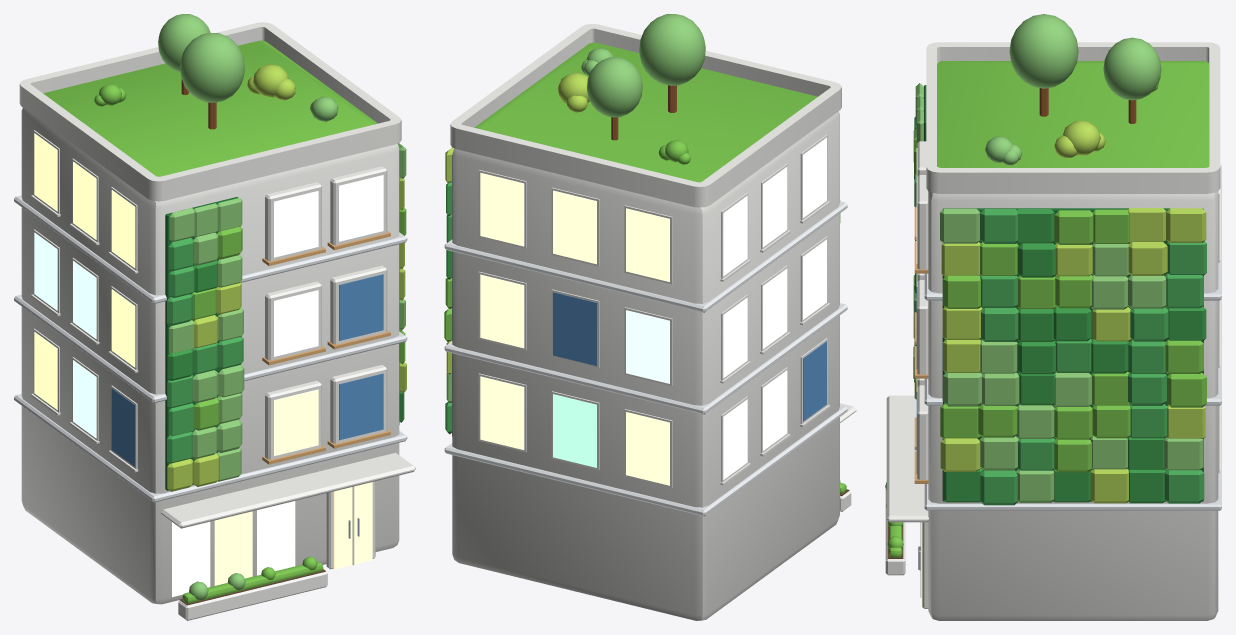
File: predinho_jardim_vertical.glb
The picture shows the model from 3 angles, left to right: view 1: azimuth 30°, elevation 25°; view 2: azimuth 150°, elevation 25°; view 3: azimuth 270°, elevation 25°; orthographic projection. The views are drawn at different scales.
Parts seen in each view (by area): view 1: predinho_jardim_vertical; view 2: predinho_jardim_vertical; view 3: predinho_jardim_vertical.
Part boxes in pixels (bbox=[...]): predinho_jardim_vertical: bbox=[14, 14, 415, 620]; predinho_jardim_vertical: bbox=[444, 14, 856, 620]; predinho_jardim_vertical: bbox=[885, 14, 1221, 620].
Bounding box in the file's own units: 8.92 × 16.37 × 9.29.
Materials: 6 (1 with a texture image).
